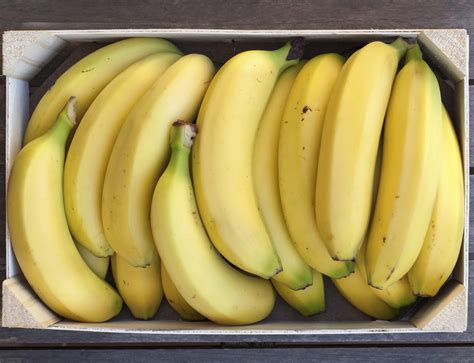banana: (190, 36, 310, 283), (6, 127, 128, 325), (149, 148, 277, 328), (318, 40, 404, 263), (365, 56, 442, 291)
